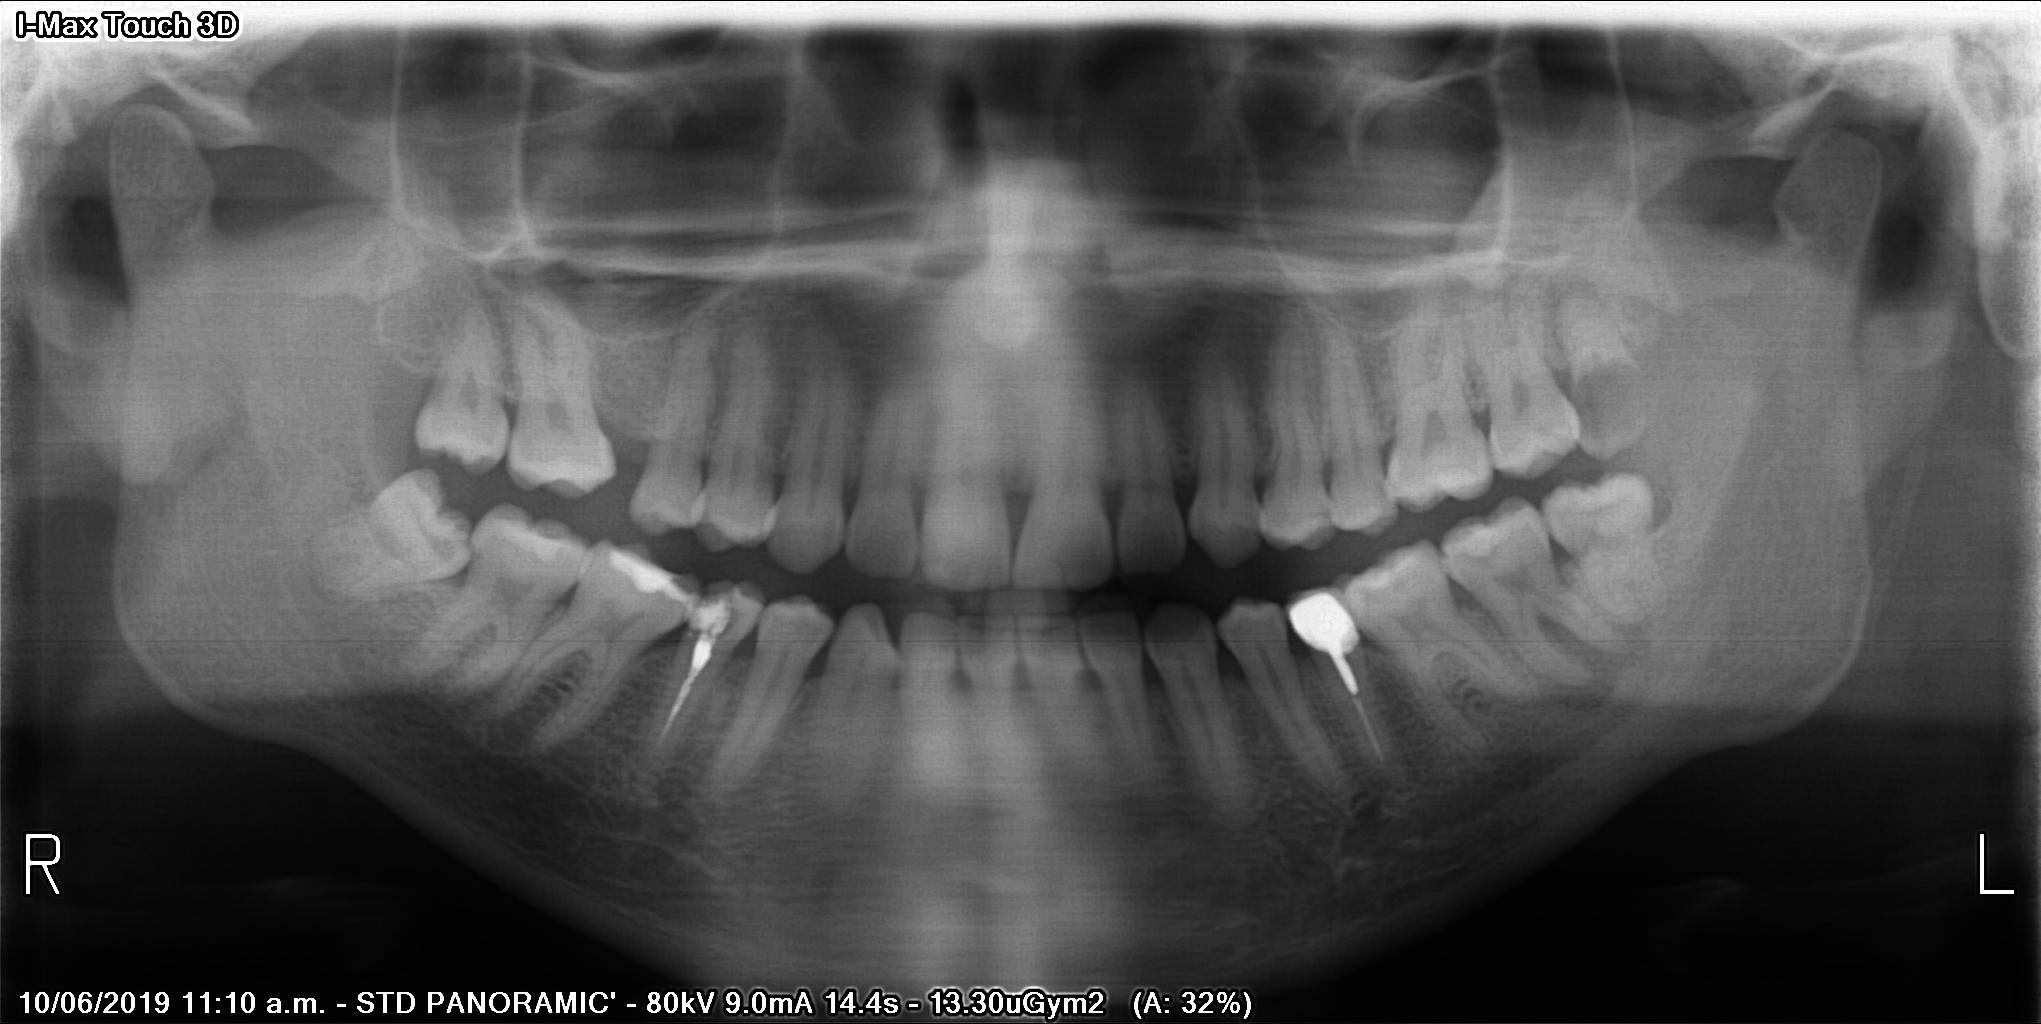Çürük: (1290, 596, 1362, 661), (609, 545, 671, 607), (692, 596, 727, 644)
Çürük Bölgesi: (1572, 367, 1656, 451), (723, 602, 744, 637)
